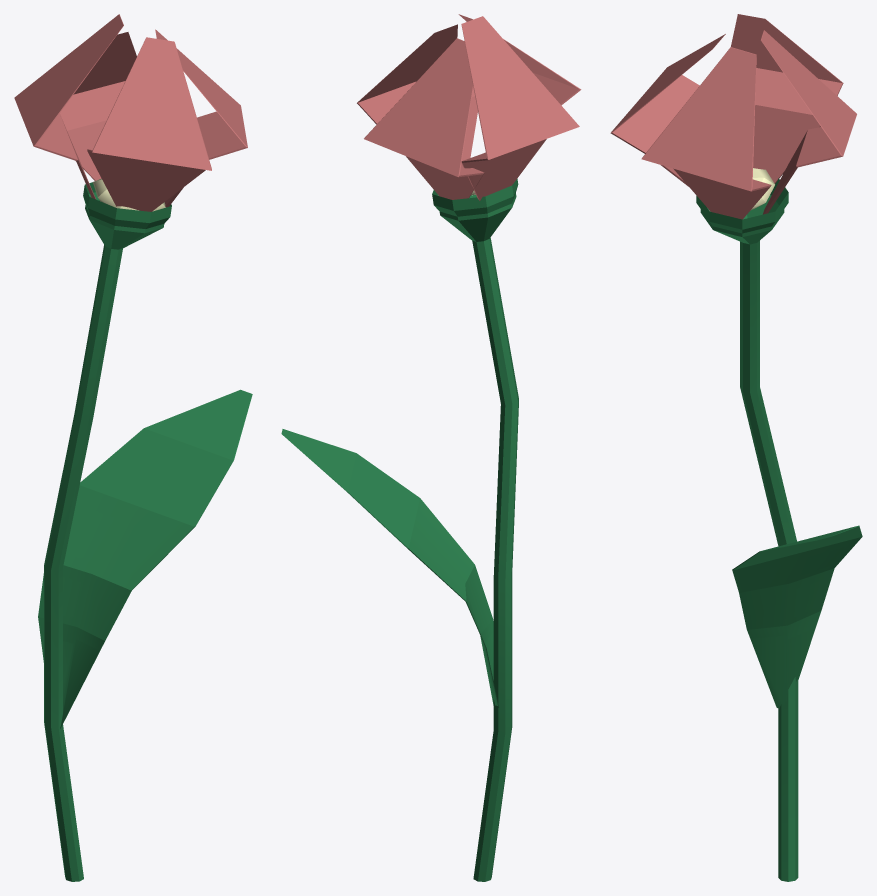
The model's file is Planta_3.fbx.
The picture shows the model from 3 angles, left to right: view 1: azimuth 30°, elevation 25°; view 2: azimuth 150°, elevation 25°; view 3: azimuth 270°, elevation 25°; orthographic projection. The views are drawn at different scales.
Visible parts, largest first — view 1: pCube17, pCylinder10, pCube14, pCube13, pCube15, pCube12; view 2: pCylinder10, pCube13, pCube17, pCube15, pCube12, pCube14; view 3: pCylinder10, pCube12, pCube17, pCube13, pCube15, pCube14.
Boxes of the visible parts, bbox=[...] form: pCube17: bbox=[38, 389, 252, 728]; pCylinder10: bbox=[44, 182, 171, 881]; pCube14: bbox=[87, 37, 211, 211]; pCube13: bbox=[14, 14, 123, 199]; pCube15: bbox=[59, 32, 136, 180]; pCube12: bbox=[155, 29, 247, 207]; pCylinder10: bbox=[432, 178, 518, 881]; pCube13: bbox=[461, 16, 579, 200]; pCube17: bbox=[281, 429, 498, 707]; pCube15: bbox=[364, 38, 484, 199]; pCube12: bbox=[357, 24, 477, 160]; pCube14: bbox=[458, 14, 581, 105]; pCylinder10: bbox=[696, 178, 798, 881]; pCube12: bbox=[641, 47, 771, 219]; pCube17: bbox=[732, 525, 862, 708]; pCube13: bbox=[731, 14, 843, 183]; pCube15: bbox=[761, 30, 856, 214]; pCube14: bbox=[610, 34, 725, 186].
Size of the model in its own units: 1.41 by 4.43 by 1.16.
